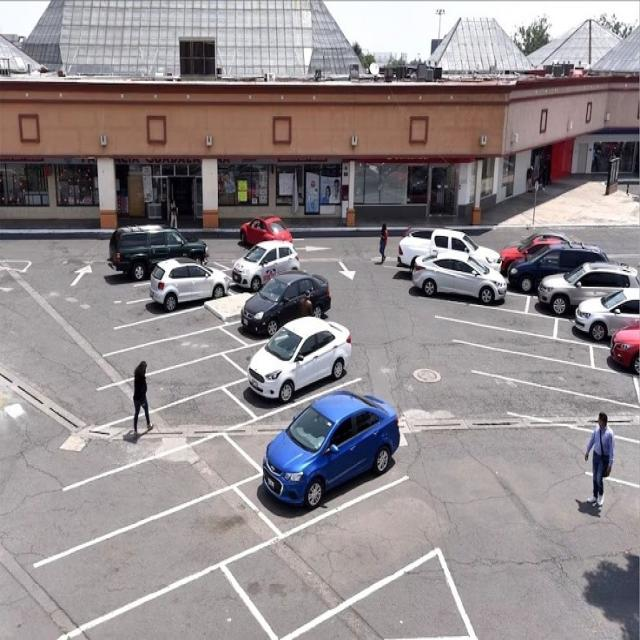libre: (96, 314, 250, 640), (273, 524, 471, 640), (440, 308, 584, 399), (228, 416, 279, 449)
ocupado: (396, 223, 639, 310), (96, 221, 328, 305), (275, 420, 402, 500), (568, 281, 640, 391)
persona: (584, 406, 625, 524), (126, 354, 158, 440)
